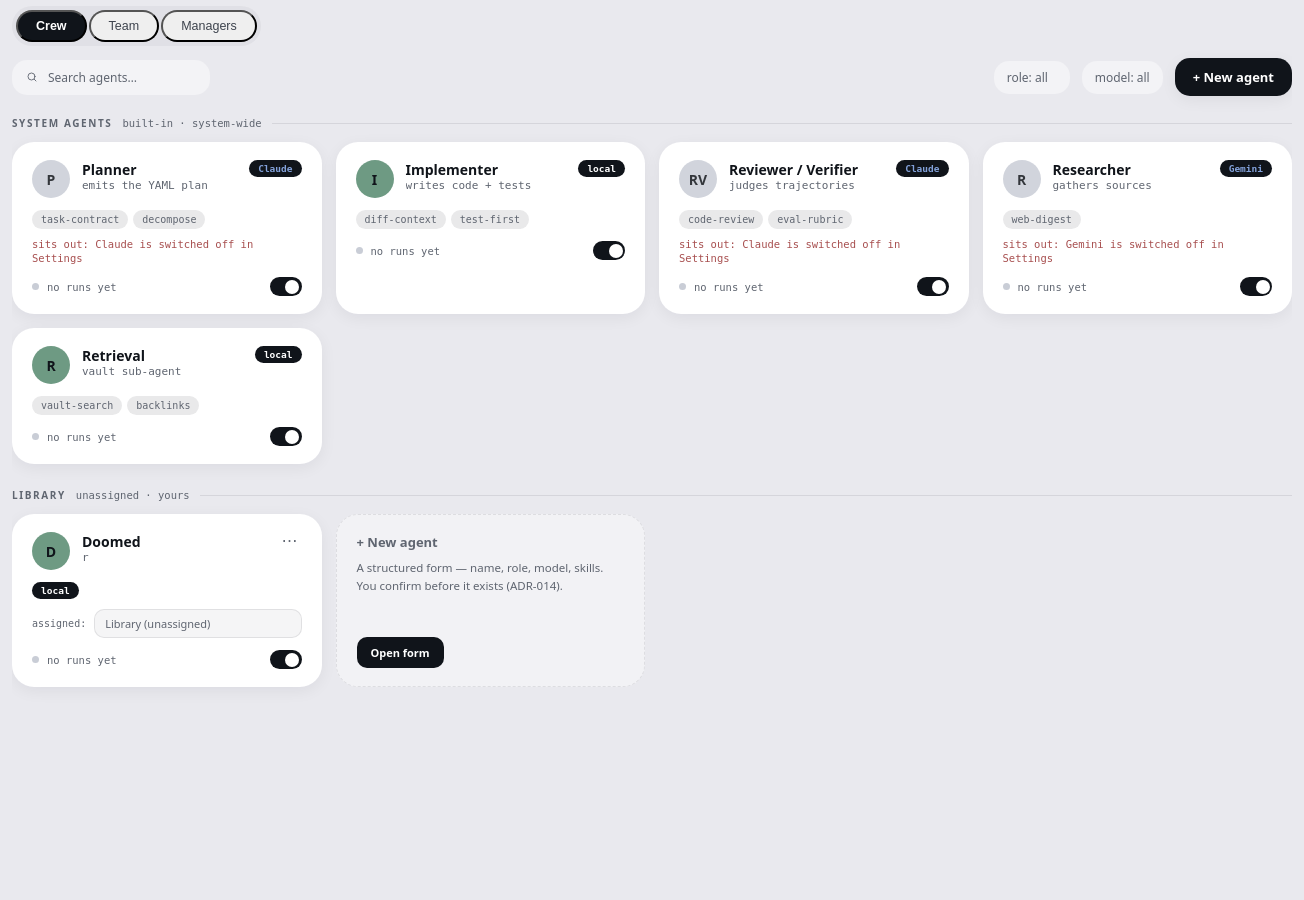
Test: Agents — permanent agent delete is two-step (P9) › cancel disarms without deleting
Click the button named "actions for Doomed" at (290, 540), box x1=278 y1=532 x2=302 y2=548
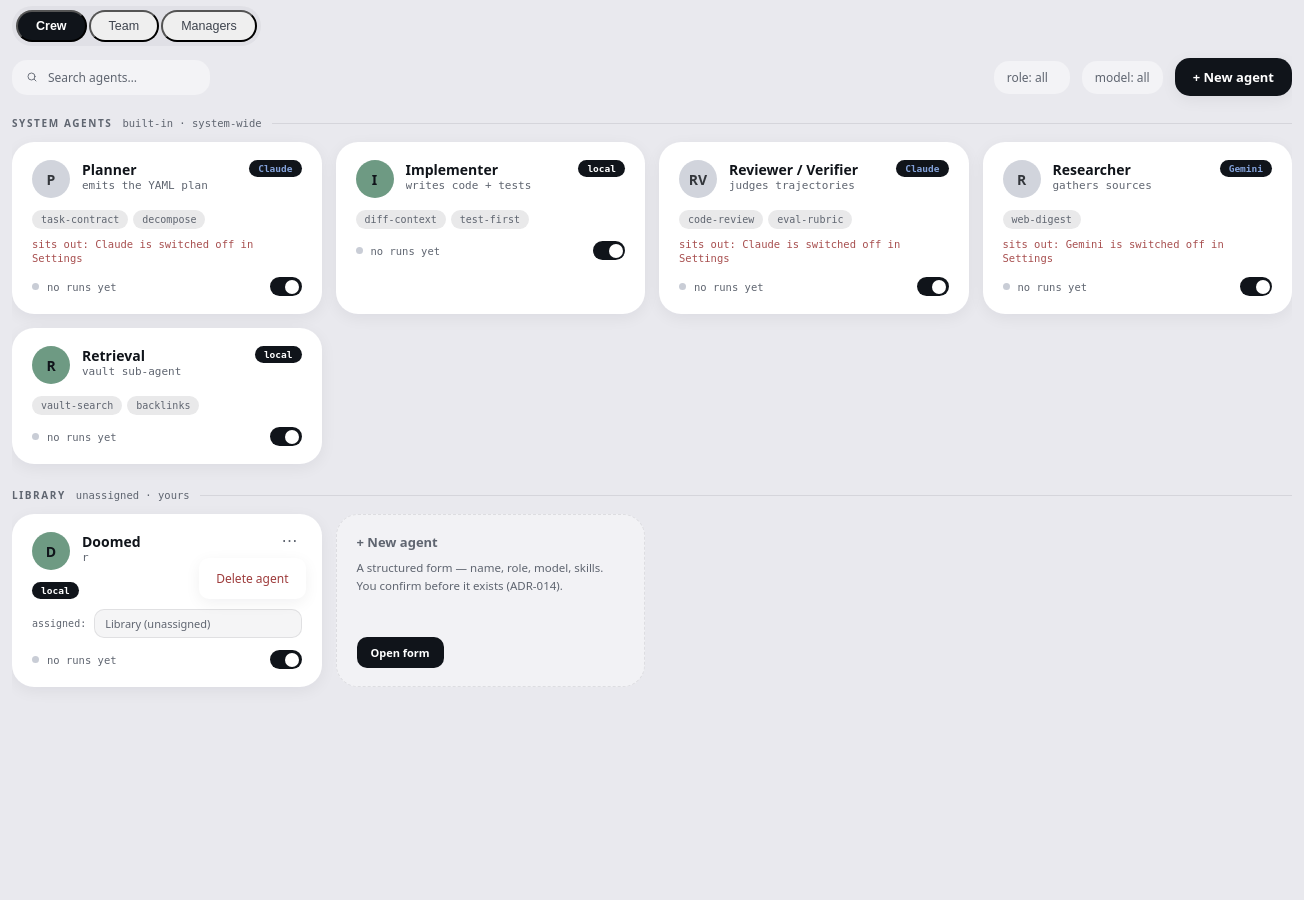
Click the button with aria-label "Delete Doomed" at (252, 579), box x1=204 y1=563 x2=301 y2=594
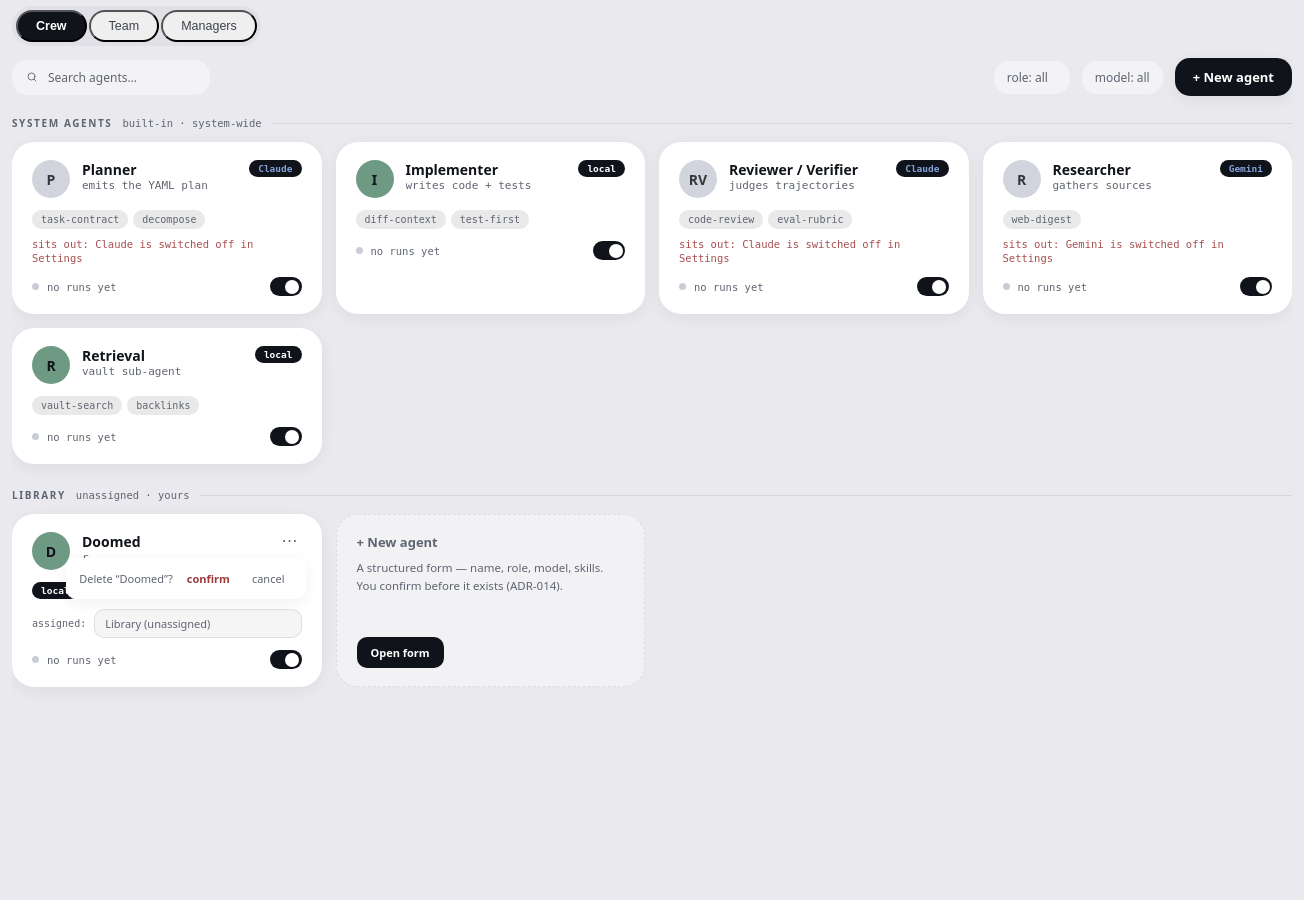
Click the button with aria-label "cancel deleting Doomed" at (268, 579), box x1=244 y1=567 x2=292 y2=590
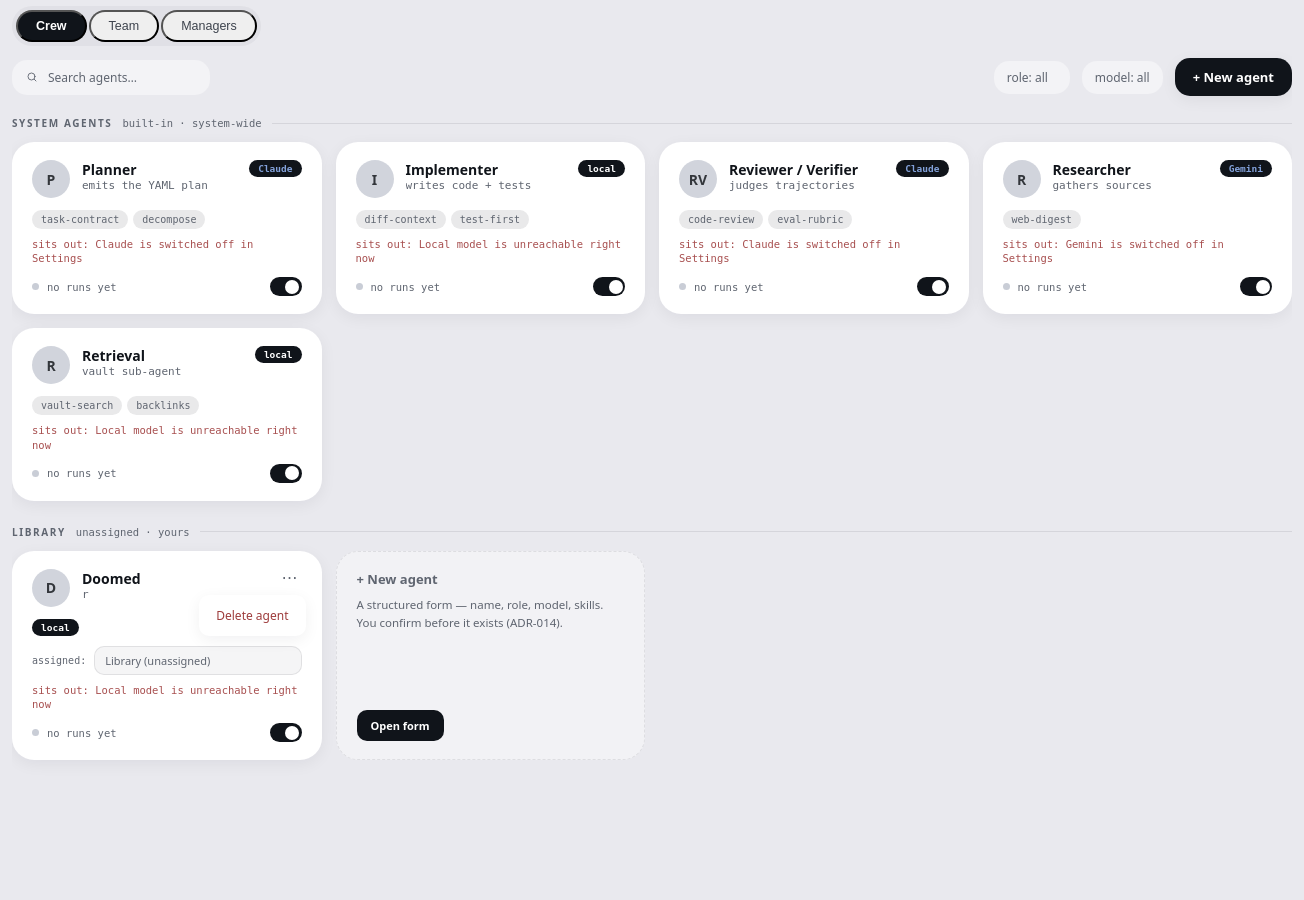
Expected: the text "Doomed" is shown, x1=82 y1=569 x2=141 y2=588
Now the button with aria-label "Delete Doomed" is shown, box x1=204 y1=600 x2=301 y2=631
